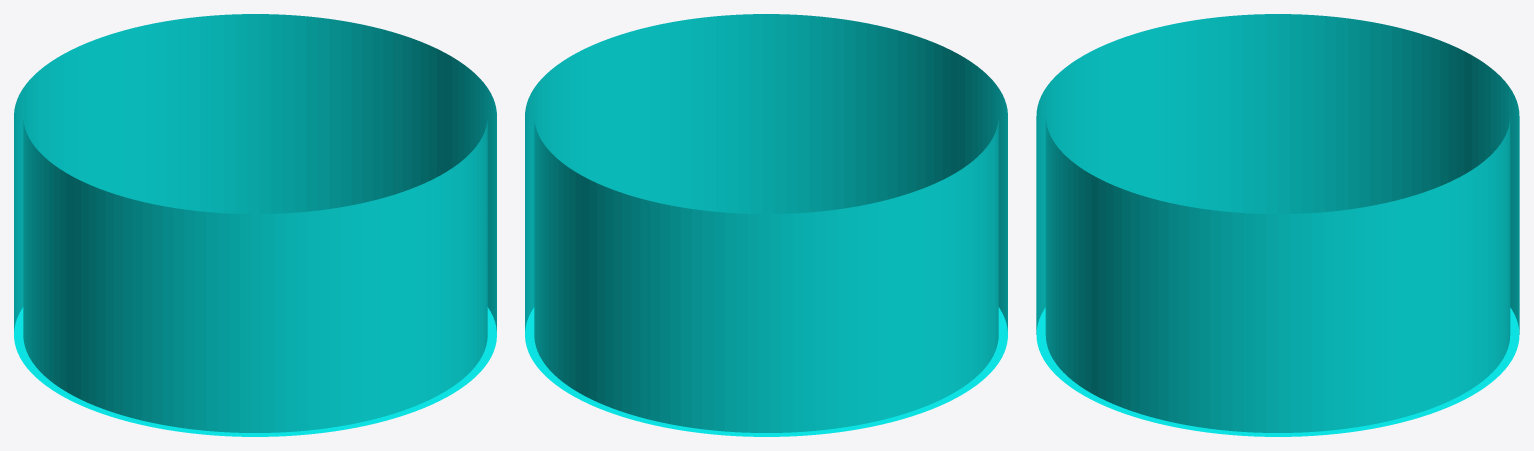
Rendered from hollow_cylindrical_collider_52x26x52_t1.glb.
3 renders of one model, left to right at view 1: azimuth 30°, elevation 25°; view 2: azimuth 150°, elevation 25°; view 3: azimuth 270°, elevation 25°, orthographic.
Visible parts, largest first — view 1: Hollow_Cylindrical_Collider_52x26x52_thickness1; view 2: Hollow_Cylindrical_Collider_52x26x52_thickness1; view 3: Hollow_Cylindrical_Collider_52x26x52_thickness1.
Boxes of the visible parts, x1,y1,x2,y2 form: Hollow_Cylindrical_Collider_52x26x52_thickness1: [14, 14, 496, 436]; Hollow_Cylindrical_Collider_52x26x52_thickness1: [525, 14, 1007, 436]; Hollow_Cylindrical_Collider_52x26x52_thickness1: [1036, 14, 1519, 436].
Bounding box in the file's own units: 52 × 26 × 52.
